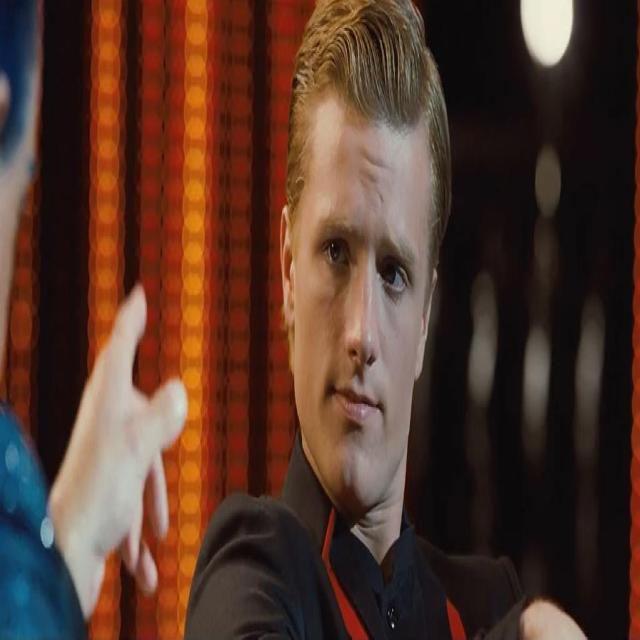Face: (299, 79, 430, 495)
